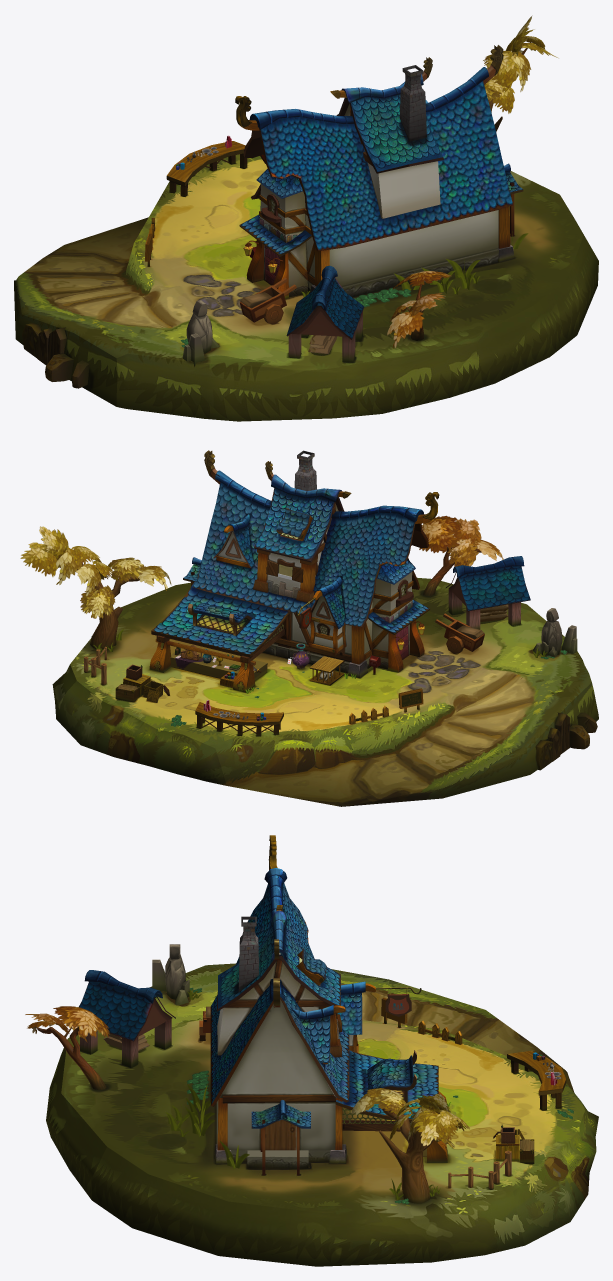
The model's file is house.glb.
The picture shows the model from 3 angles, top to bottom: view 1: azimuth 30°, elevation 25°; view 2: azimuth 150°, elevation 25°; view 3: azimuth 270°, elevation 25°; orthographic projection. The views are drawn at different scales.
Parts seen in each view (by area): view 1: house; view 2: house; view 3: house.
Boxes of the visible parts, box(x1,y1,x2,y2) form: house: box(14, 15, 598, 421); house: box(20, 450, 598, 806); house: box(25, 835, 598, 1266).
Size of the model in its own units: 33.88 by 14.13 by 28.98.
5 materials, 5 textured.
